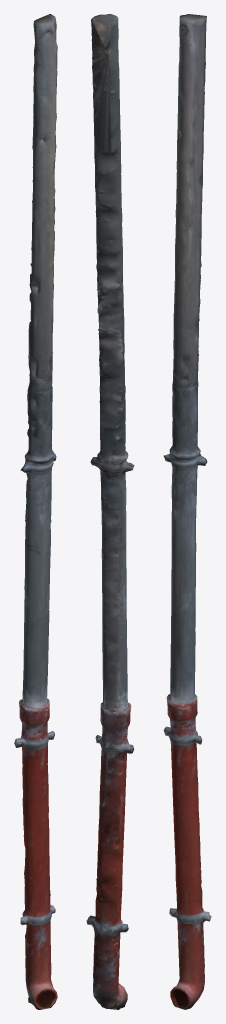
Rendered from pipe_scan_no_1.glb.
The picture shows the model from 3 angles, left to right: view 1: azimuth 30°, elevation 25°; view 2: azimuth 150°, elevation 25°; view 3: azimuth 330°, elevation 25°; orthographic projection.
Visible parts, largest first — view 1: Object_2; view 2: Object_2; view 3: Object_2.
Boxes of the visible parts, x1,y1,x2,y2 form: Object_2: (14,14,57,1009); Object_2: (86,14,134,1009); Object_2: (163,14,211,1009).
Bounding box in the file's own units: 4.24 × 90.85 × 3.01.
Materials: 1 (1 with a texture image).
